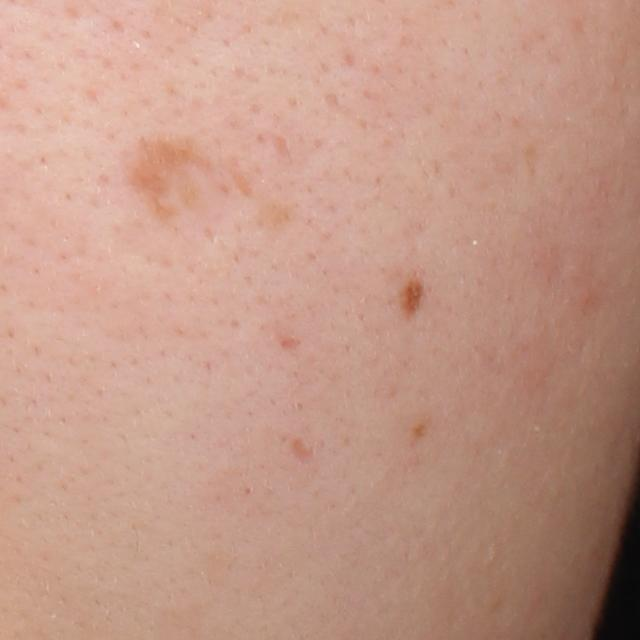atrophic_scar: (127, 127, 216, 228), (284, 435, 320, 469), (272, 129, 295, 163), (281, 336, 304, 352)
nevus: (400, 270, 430, 319)
